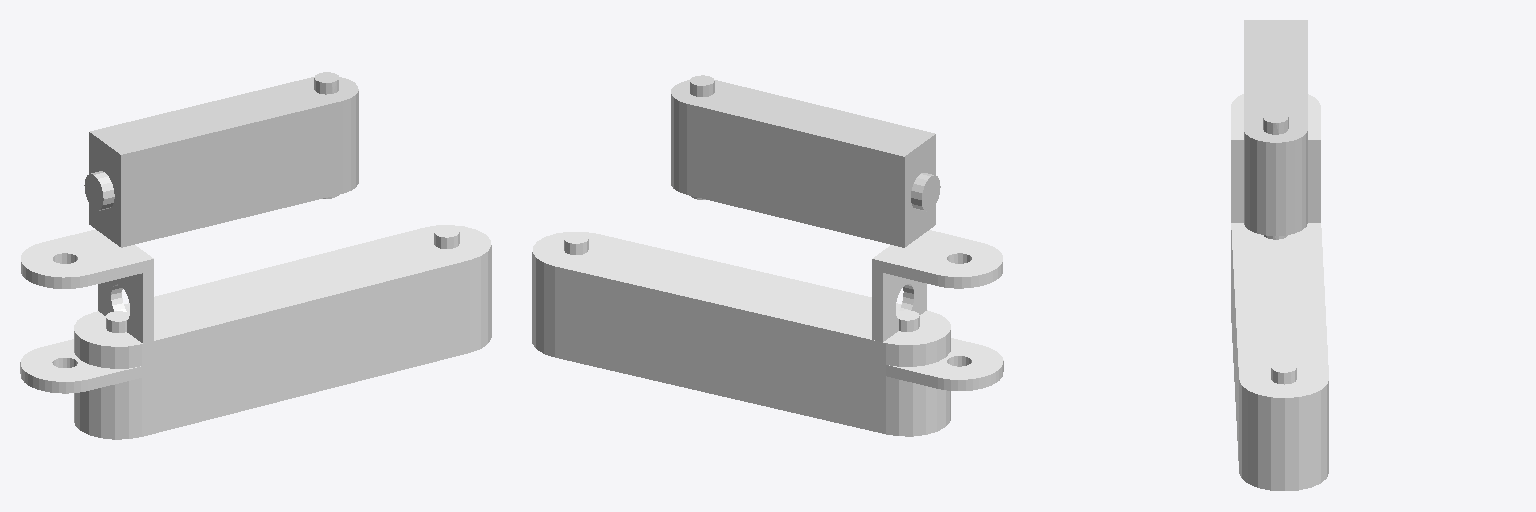
robot.urdf — engineer_arm_2:
<?xml version="1.0" encoding="utf-8" ?>
<!-- This URDF was automatically created by SolidWorks to URDF Exporter! Originally created by [author] ([email redacted]) 
     Commit Version: 1.6.0-4-g7f85cfe  Build Version: 1.6.7995.38578
     For more information, please see http://wiki.ros.org/sw_urdf_exporter -->
<robot name="engineer_arm_2">
    <link name="base_link">
        <inertial>
            <origin xyz="-0.00691367027504691 -0.00595295449086274 0.297785589962754" rpy="0 0 0" />
            <mass value="218.657340846665" />
            <inertia ixx="7.45162927507216" ixy="8.60456851194138E-06" ixz="-0.000156158454898834" iyy="7.45340162157451" iyz="-2.07377216740303E-06" izz="8.01932577268846" />
        </inertial>
        <visual>
            <origin xyz="0 0 0" rpy="0 0 0" />
            <geometry>
                <mesh filename="package://engineer_arm_2/meshes/base_link.STL" />
            </geometry>
            <material name="">
                <color rgba="0.752941176470588 0.752941176470588 0.752941176470588 1" />
            </material>
        </visual>
        <collision>
            <origin xyz="0 0 0" rpy="0 0 0" />
            <geometry>
                <mesh filename="package://engineer_arm_2/meshes/base_link.STL" />
            </geometry>
        </collision>
    </link>
    <link name="slide_link">
        <inertial>
            <origin xyz="-0.0767410542680111 0.015111935171764 0.0359976372399163" rpy="0 0 0" />
            <mass value="0.960292124503006" />
            <inertia ixx="0.00289854064164124" ixy="-1.53849930984191E-07" ixz="-0.000282930025193317" iyy="0.00570945693135303" iyz="4.52251012505274E-08" izz="0.00289823420003429" />
        </inertial>
        <visual>
            <origin xyz="0 0 0" rpy="0 0 0" />
            <geometry>
                <mesh filename="package://engineer_arm_2/meshes/slide_link.STL" />
            </geometry>
            <material name="">
                <color rgba="1 1 1 1" />
            </material>
        </visual>
        <collision>
            <origin xyz="0 0 0" rpy="0 0 0" />
            <geometry>
                <mesh filename="package://engineer_arm_2/meshes/slide_link.STL" />
            </geometry>
        </collision>
    </link>
    <joint name="slide_joint" type="prismatic">
        <origin xyz="0.12 0 0.411" rpy="-1.5708 0 2.3562" />
        <parent link="base_link" />
        <child link="slide_link" />
        <axis xyz="0.70711 0 -0.70711" />
        <limit lower="-2" upper="2" effort="10000" velocity="10000" />
    </joint>
    <link name="link_1">
        <inertial>
            <origin xyz="0.00814859832742407 -0.000481727172812987 0.0219805303978155" rpy="0 0 0" />
            <mass value="0.403355847986571" />
            <inertia ixx="0.000485773107328456" ixy="-1.56680996810001E-07" ixz="-1.32139706883709E-07" iyy="0.000346225501756824" iyz="7.4502382733387E-06" izz="0.000475424655300517" />
        </inertial>
        <visual>
            <origin xyz="0 0 0" rpy="0 0 0" />
            <geometry>
                <mesh filename="package://engineer_arm_2/meshes/link_1.STL" />
            </geometry>
            <material name="">
                <color rgba="1 1 1 1" />
            </material>
        </visual>
        <collision>
            <origin xyz="0 0 0" rpy="0 0 0" />
            <geometry>
                <mesh filename="package://engineer_arm_2/meshes/link_1.STL" />
            </geometry>
        </collision>
    </link>
    <joint name="joint_1" type="revolute">
        <origin xyz="-0.12707 0.008 -0.014348" rpy="-1.5708 0.7854 -3.1416" />
        <parent link="slide_link" />
        <child link="link_1" />
        <axis xyz="0 0 1" />
        <limit lower="-3.1416" upper="3.1416" effort="10000" velocity="10000" />
    </joint>
    <link name="link_2">
        <inertial>
            <origin xyz="-0.00389686695935471 -6.17595701226104E-05 0.185039399998907" rpy="0 0 0" />
            <mass value="0.462221289494691" />
            <inertia ixx="0.00251107936159442" ixy="3.06354455438804E-08" ixz="2.52842336786188E-08" iyy="0.00230342348401862" iyz="4.65694809405922E-06" izz="0.00022441328360865" />
        </inertial>
        <visual>
            <origin xyz="0 0 0" rpy="0 0 0" />
            <geometry>
                <mesh filename="package://engineer_arm_2/meshes/link_2.STL" />
            </geometry>
            <material name="">
                <color rgba="0.929411764705882 0.929411764705882 0.929411764705882 1" />
            </material>
        </visual>
        <collision>
            <origin xyz="0 0 0" rpy="0 0 0" />
            <geometry>
                <mesh filename="package://engineer_arm_2/meshes/link_2.STL" />
            </geometry>
        </collision>
    </link>
    <joint name="joint_2" type="revolute">
        <origin xyz="0.04905 0 0.057" rpy="0 0 0" />
        <parent link="link_1" />
        <child link="link_2" />
        <axis xyz="-1 0 0" />
        <limit lower="-1.5708" upper="1.5708" effort="10000" velocity="10000" />
    </joint>
    <link name="link_3">
        <inertial>
            <origin xyz="-0.019411075643052 -3.97323437224401E-05 0.032229330560215" rpy="0 0 0" />
            <mass value="0.150857023735493" />
            <inertia ixx="9.49747083370622E-05" ixy="2.20859719676857E-07" ixz="2.00877584702327E-08" iyy="7.29160235497536E-05" iyz="1.38862494983689E-08" izz="6.24927198365317E-05" />
        </inertial>
        <visual>
            <origin xyz="0 0 0" rpy="0 0 0" />
            <geometry>
                <mesh filename="package://engineer_arm_2/meshes/link_3.STL" />
            </geometry>
            <material name="">
                <color rgba="1 1 1 1" />
            </material>
        </visual>
        <collision>
            <origin xyz="0 0 0" rpy="0 0 0" />
            <geometry>
                <mesh filename="package://engineer_arm_2/meshes/link_3.STL" />
            </geometry>
        </collision>
    </link>
    <joint name="joint_3" type="revolute">
        <origin xyz="-0.0343 0 0.26" rpy="0 0 0" />
        <parent link="link_2" />
        <child link="link_3" />
        <axis xyz="-1 0 0" />
        <limit lower="-3.1416" upper="3.1416" effort="10000" velocity="10000" />
    </joint>
    <link name="link_4">
        <inertial>
            <origin xyz="-0.00754028921538405 -7.62189978906203E-06 0.0327473022878556" rpy="0 0 0" />
            <mass value="0.103992615774865" />
            <inertia ixx="4.01485625790802E-05" ixy="-1.868577721192E-08" ixz="1.57221496428863E-08" iyy="2.32295011943397E-05" iyz="-2.87545302210588E-07" izz="2.55329337186569E-05" />
        </inertial>
        <visual>
            <origin xyz="0 0 0" rpy="0 0 0" />
            <geometry>
                <mesh filename="package://engineer_arm_2/meshes/link_4.STL" />
            </geometry>
            <material name="">
                <color rgba="1 1 1 1" />
            </material>
        </visual>
        <collision>
            <origin xyz="0 0 0" rpy="0 0 0" />
            <geometry>
                <mesh filename="package://engineer_arm_2/meshes/link_4.STL" />
            </geometry>
        </collision>
    </link>
    <joint name="joint_4" type="revolute">
        <origin xyz="-0.048 0 0.061" rpy="0 0 0" />
        <parent link="link_3" />
        <child link="link_4" />
        <axis xyz="0 0 -1" />
        <limit lower="-3.1416" upper="3.1416" effort="10000" velocity="10000" />
    </joint>
    <link name="link_5">
        <inertial>
            <origin xyz="-0.0123697694959182 2.95754319981079E-05 0.0437150364554754" rpy="0 0 0" />
            <mass value="0.104721270781419" />
            <inertia ixx="4.40791383870236E-05" ixy="-2.92345950983206E-07" ixz="2.00496026002138E-08" iyy="3.46214560440561E-05" iyz="-1.39412222373943E-08" izz="4.49849491062042E-05" />
        </inertial>
        <visual>
            <origin xyz="0 0 0" rpy="0 0 0" />
            <geometry>
                <mesh filename="package://engineer_arm_2/meshes/link_5.STL" />
            </geometry>
            <material name="">
                <color rgba="0.929411764705882 0.929411764705882 0.929411764705882 1" />
            </material>
        </visual>
        <collision>
            <origin xyz="0 0 0" rpy="0 0 0" />
            <geometry>
                <mesh filename="package://engineer_arm_2/meshes/link_5.STL" />
            </geometry>
        </collision>
    </link>
    <joint name="joint_5" type="revolute">
        <origin xyz="0.026 0 0.051" rpy="0 0 0" />
        <parent link="link_4" />
        <child link="link_5" />
        <axis xyz="-1 0 0" />
        <limit lower="-1.5708" upper="1.5708" effort="10000" velocity="10000" />
    </joint>
    <link name="link_6">
        <inertial>
            <origin xyz="-1.82076628774119E-09 -2.439779503427E-09 0.156023123307524" rpy="0 0 0" />
            <mass value="7.87602992142258" />
            <inertia ixx="0.0485911752659686" ixy="1.63709425101813E-11" ixz="-1.62864756103577E-10" iyy="0.0485020602998926" iyz="-6.56588392814432E-10" izz="0.0486237927224298" />
        </inertial>
        <visual>
            <origin xyz="0 0 0" rpy="0 0 0" />
            <geometry>
                <mesh filename="package://engineer_arm_2/meshes/link_6.STL" />
            </geometry>
            <material name="">
                <color rgba="1 1 1 1" />
            </material>
        </visual>
        <collision>
            <origin xyz="0 0 0" rpy="0 0 0" />
            <geometry>
                <mesh filename="package://engineer_arm_2/meshes/link_6.STL" />
            </geometry>
        </collision>
    </link>
    <joint name="joint_6" type="revolute">
        <origin xyz="-0.0275 0 0.096" rpy="0 0 0" />
        <parent link="link_5" />
        <child link="link_6" />
        <axis xyz="0 0 1" />
        <limit lower="-3.1416" upper="3.1416" effort="10000" velocity="10000" />
    </joint>
    <transmission name="trans_slide_joint">
        <type>transmission_interface/SimpleTransmission</type>
        <joint name="slide_joint">
            <hardwareInterface>hardware_interface/EffortJointInterface</hardwareInterface>
        </joint>
        <actuator name="slide_joint_motor">
            <hardwareInterface>hardware_interface/EffortJointInterface</hardwareInterface>
            <mechanicalReduction>1</mechanicalReduction>
        </actuator>
    </transmission>
    <transmission name="trans_joint_1">
        <type>transmission_interface/SimpleTransmission</type>
        <joint name="joint_1">
            <hardwareInterface>hardware_interface/EffortJointInterface</hardwareInterface>
        </joint>
        <actuator name="joint_1_motor">
            <hardwareInterface>hardware_interface/EffortJointInterface</hardwareInterface>
            <mechanicalReduction>1</mechanicalReduction>
        </actuator>
    </transmission>
    <transmission name="trans_joint_2">
        <type>transmission_interface/SimpleTransmission</type>
        <joint name="joint_2">
            <hardwareInterface>hardware_interface/EffortJointInterface</hardwareInterface>
        </joint>
        <actuator name="joint_2_motor">
            <hardwareInterface>hardware_interface/EffortJointInterface</hardwareInterface>
            <mechanicalReduction>1</mechanicalReduction>
        </actuator>
    </transmission>
    <transmission name="trans_joint_3">
        <type>transmission_interface/SimpleTransmission</type>
        <joint name="joint_3">
            <hardwareInterface>hardware_interface/EffortJointInterface</hardwareInterface>
        </joint>
        <actuator name="joint_3_motor">
            <hardwareInterface>hardware_interface/EffortJointInterface</hardwareInterface>
            <mechanicalReduction>1</mechanicalReduction>
        </actuator>
    </transmission>
    <transmission name="trans_joint_4">
        <type>transmission_interface/SimpleTransmission</type>
        <joint name="joint_4">
            <hardwareInterface>hardware_interface/EffortJointInterface</hardwareInterface>
        </joint>
        <actuator name="joint_4_motor">
            <hardwareInterface>hardware_interface/EffortJointInterface</hardwareInterface>
            <mechanicalReduction>1</mechanicalReduction>
        </actuator>
    </transmission>
    <transmission name="trans_joint_5">
        <type>transmission_interface/SimpleTransmission</type>
        <joint name="joint_5">
            <hardwareInterface>hardware_interface/EffortJointInterface</hardwareInterface>
        </joint>
        <actuator name="joint_5_motor">
            <hardwareInterface>hardware_interface/EffortJointInterface</hardwareInterface>
            <mechanicalReduction>1</mechanicalReduction>
        </actuator>
    </transmission>
    <transmission name="trans_joint_6">
        <type>transmission_interface/SimpleTransmission</type>
        <joint name="joint_6">
            <hardwareInterface>hardware_interface/EffortJointInterface</hardwareInterface>
        </joint>
        <actuator name="joint_6_motor">
            <hardwareInterface>hardware_interface/EffortJointInterface</hardwareInterface>
            <mechanicalReduction>1</mechanicalReduction>
        </actuator>
    </transmission>
    <gazebo>
        <plugin name="gazebo_ros_control">
            <robotNamespace>/</robotNamespace>
        </plugin>
    </gazebo>
</robot>

--- Render facts (derived) ---
Views: 3 orthographic renders of the robot side by side, from view 1: azimuth 30°, elevation 25°; view 2: azimuth 150°, elevation 25°; view 3: azimuth 270°, elevation 25°.
Robot: engineer_arm_2 — 8 links, 7 joints (6 revolute, 1 prismatic); root link base_link; default pose: all joints at 0.
Links seen in each view (by area): view 1: link_3, link_5, link_4; view 2: link_3, link_5, link_4; view 3: link_3, link_5, link_4.
Boxes of the visible links, x1,y1,x2,y2 form: link_3: (74,225,491,439); link_5: (84,72,358,247); link_4: (20,229,153,393); link_3: (532,232,950,436); link_5: (671,75,940,247); link_4: (872,230,1003,390); link_3: (1231,223,1328,490); link_5: (1244,20,1307,239); link_4: (1231,94,1320,222).
Size in the robot's own frame: 0.4179 by 0.0765 by 0.262 metres.
3 mesh visuals loaded from 8 distinct referenced files (3 binary STL); not drawn: 5 (reference not matched to a file when rendering).